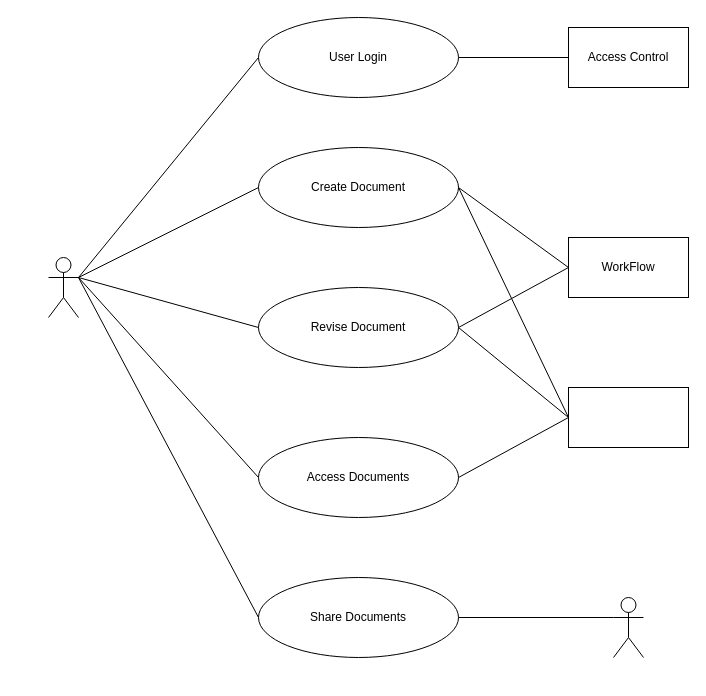
Some shapes in this 706 by 696 pixel diagram are drawn without their labels. Each missing label, with the box of its shape:
Collaborator: (612, 596, 644, 658)
Database: (568, 386, 688, 448)
Document Owner: (48, 256, 78, 318)
